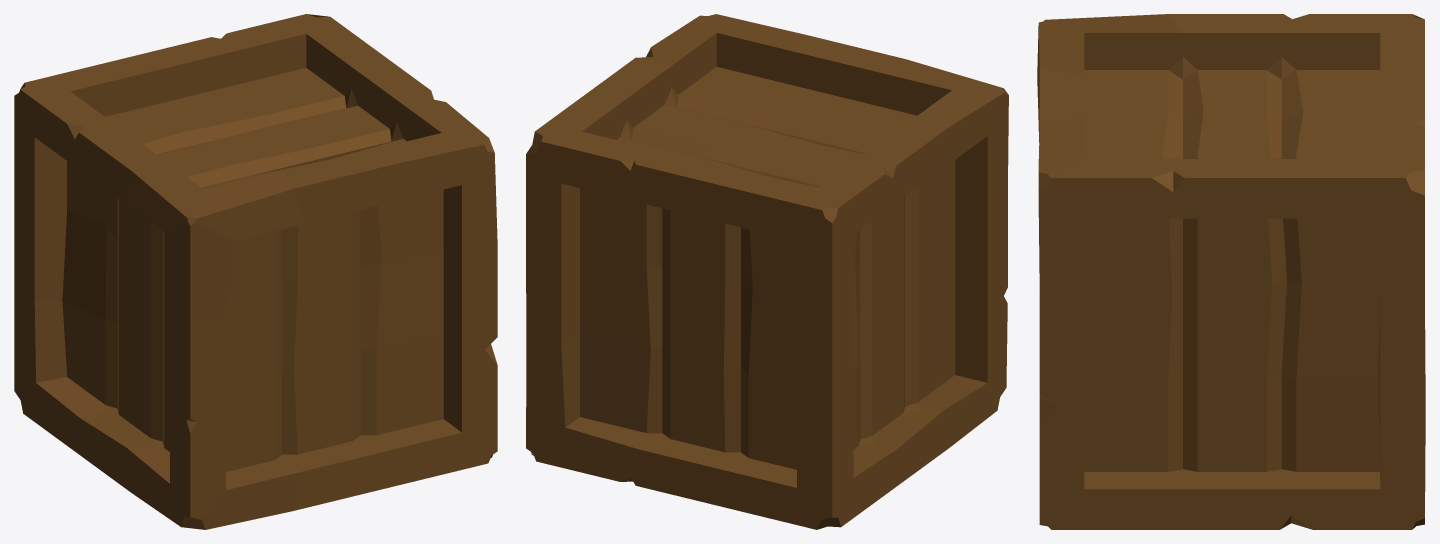
File: crate_intact.glb
3 renders of one model, left to right at view 1: azimuth 30°, elevation 25°; view 2: azimuth 150°, elevation 25°; view 3: azimuth 270°, elevation 25°, orthographic. The views are drawn at different scales.
Parts seen in each view (by area): view 1: Object_3; view 2: Object_3; view 3: Object_3.
Part boxes in pixels (x1,y1,x2,y2): Object_3: (14, 14, 497, 529); Object_3: (526, 14, 1008, 529); Object_3: (1037, 14, 1425, 529).
Size of the model in its own units: 0.4428 by 0.4428 by 0.4428.
